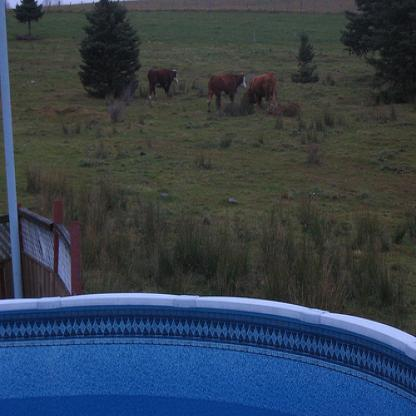cow: (205, 72, 247, 112), (242, 74, 276, 113), (146, 68, 179, 99)
